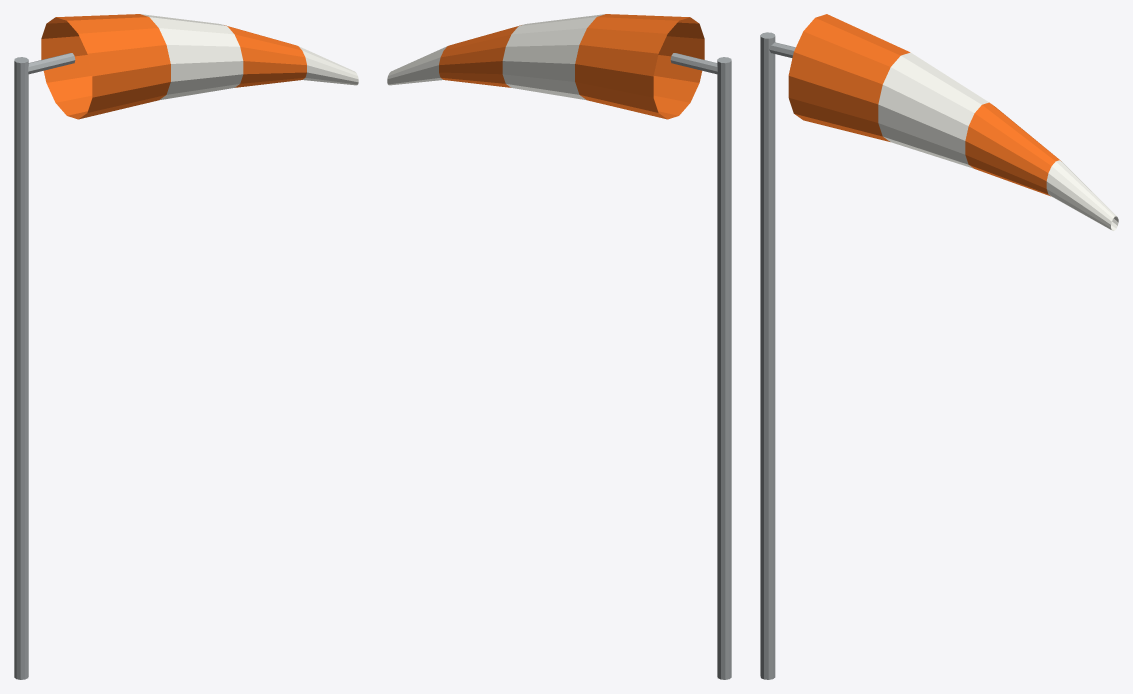
The model's file is HomebaseWindsock_LOD00.gltf.
3 views of the same model, side by side, from view 1: azimuth 30°, elevation 25°; view 2: azimuth 150°, elevation 25°; view 3: azimuth 330°, elevation 25° (orthographic). The views are drawn at different scales.
Parts seen in each view (by area): view 1: HomebaseWindsock_node; view 2: HomebaseWindsock_node; view 3: HomebaseWindsock_node.
Boxes of the visible parts, x1=… form: HomebaseWindsock_node: x1=14, y1=14, x2=358, y2=679; HomebaseWindsock_node: x1=387, y1=14, x2=731, y2=679; HomebaseWindsock_node: x1=760, y1=14, x2=1118, y2=679.
Size of the model in its own units: 2.39 by 4.34 by 0.624.
